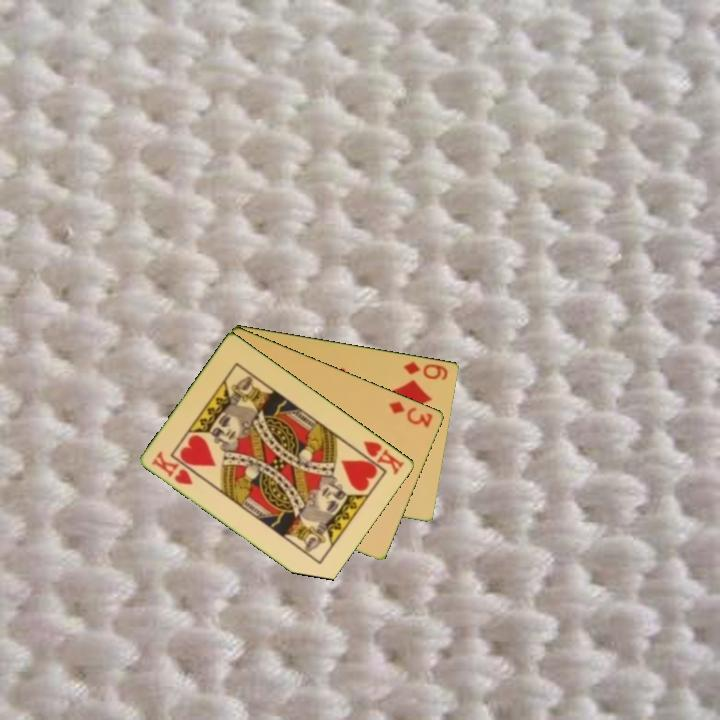3d: (386, 397, 436, 430)
6d: (400, 358, 451, 383)
Kh: (352, 437, 407, 478), (148, 447, 196, 488)
